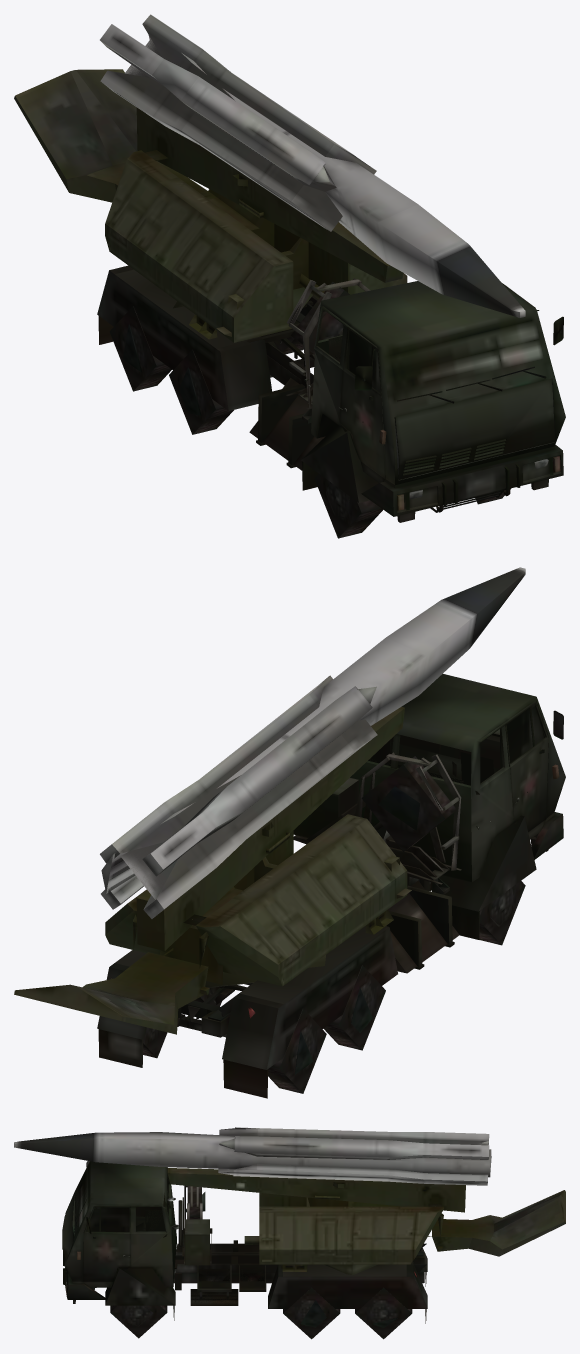
3 views of the same model, one above another, from view 1: azimuth 30°, elevation 25°; view 2: azimuth 150°, elevation 25°; view 3: azimuth 270°, elevation 25° (orthographic). The views are drawn at different scales.
Parts seen in each view (by area): view 1: Object_2, Object_3; view 2: Object_2, Object_3; view 3: Object_2, Object_3.
Part boxes in pixels (x1,y1,x2,y2): Object_2: [14, 14, 525, 342]; Object_3: [97, 265, 565, 538]; Object_2: [14, 567, 525, 1034]; Object_3: [97, 674, 565, 1098]; Object_2: [14, 1127, 565, 1275]; Object_3: [62, 1161, 427, 1339].
Bounding box in the file's own units: 2.51 × 3.45 × 9.46.
2 materials, 2 textured.
